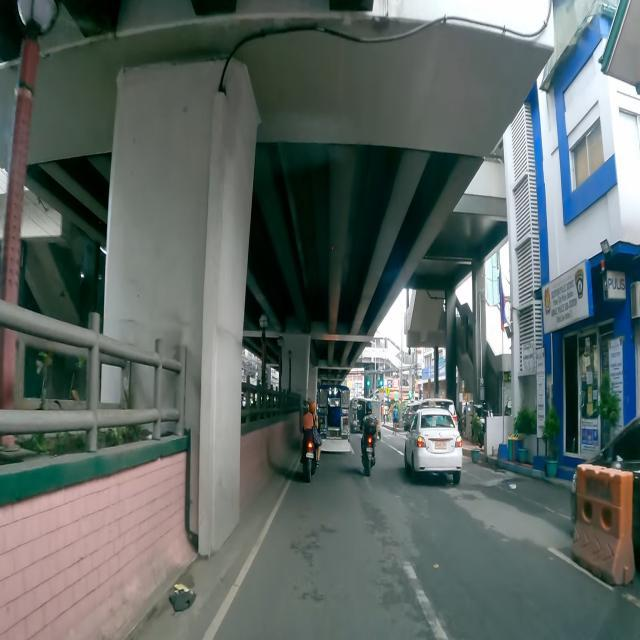car: (404, 408, 463, 486)
jeepney: (316, 384, 352, 452), (350, 398, 367, 433)
motorcycle: (300, 400, 322, 488), (468, 399, 494, 452), (360, 401, 378, 476)
